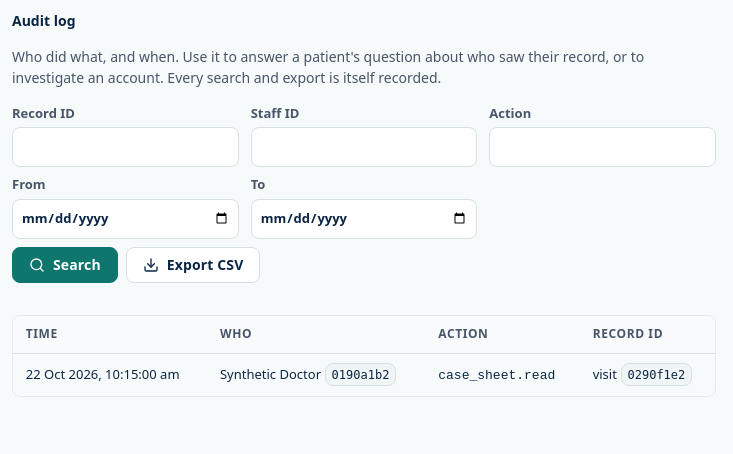
lists entries, searches by person and refuses a partial id
This screenshot has width=733, height=454.
Check: the text "Synthetic Doctor" is shown, box [220,365,321,383]
Check: the text "case_sheet.read" is shown, box [438,368,555,383]
Type "0190a1b2" into the field labelled "Staff ID" at (364, 147), box [251,127,477,167]
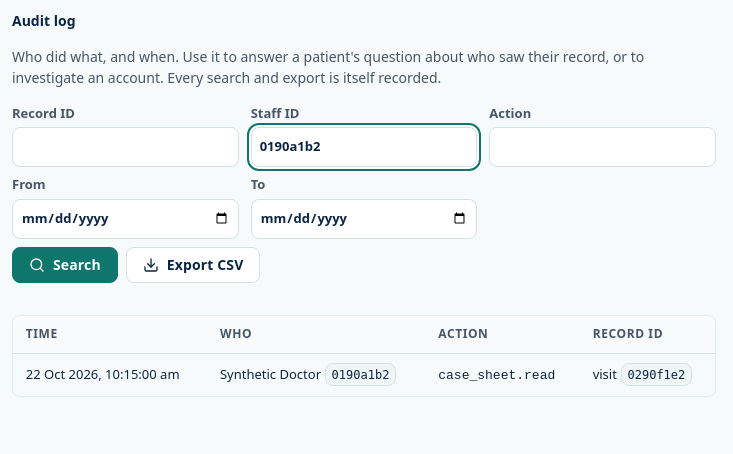
Click the button "Search" at (65, 264), box [12,246,118,282]
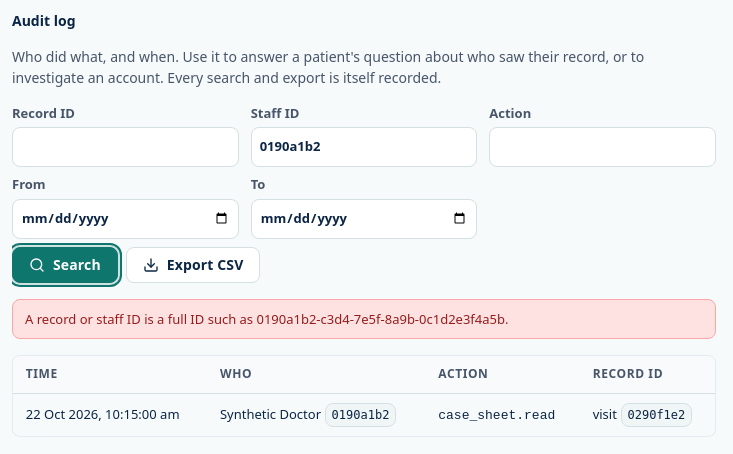
Check: the text "A record or staff ID is a full ID" is shown, box [25,310,508,328]
# Clicking a person's short id fills the search with their full id.
Clear the field labelled "Staff ID" at (364, 147), box [251,127,477,167]
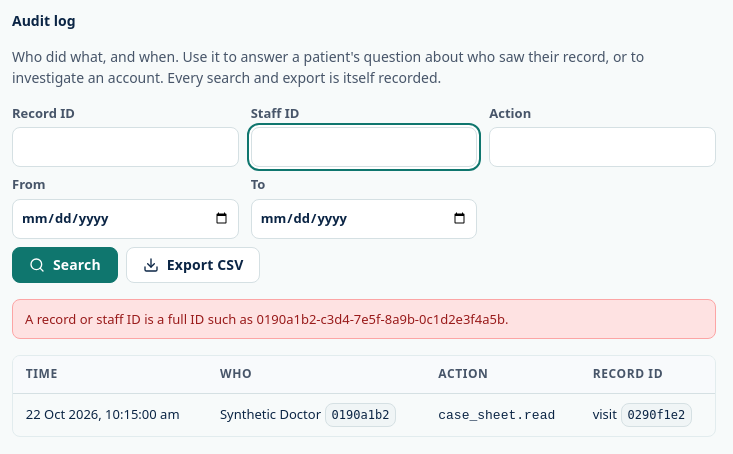
Click the button "0190a1b2" at (360, 415), box [325,404,396,427]
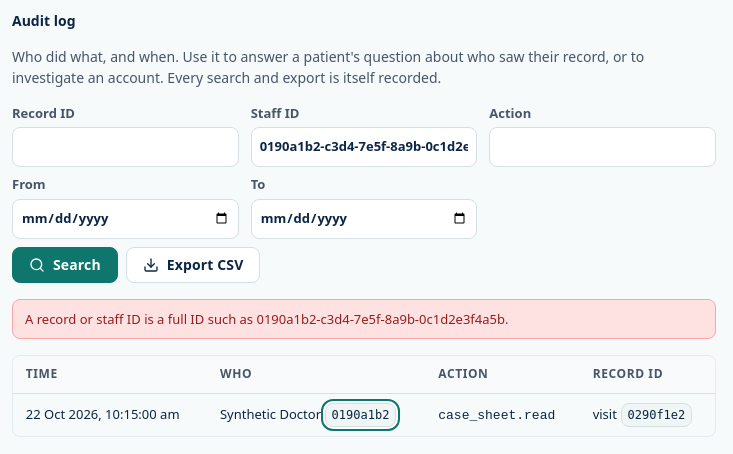
Click the button "Search" at (65, 264), box [12,246,118,282]
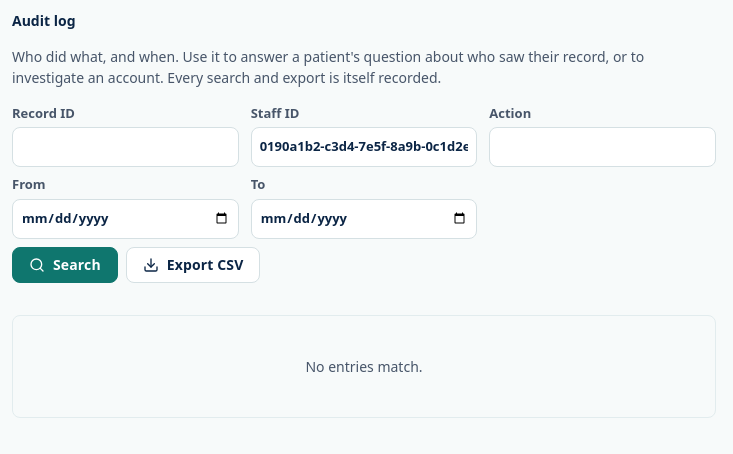
Check: the text "No entries match." is shown, box [305,356,422,376]
